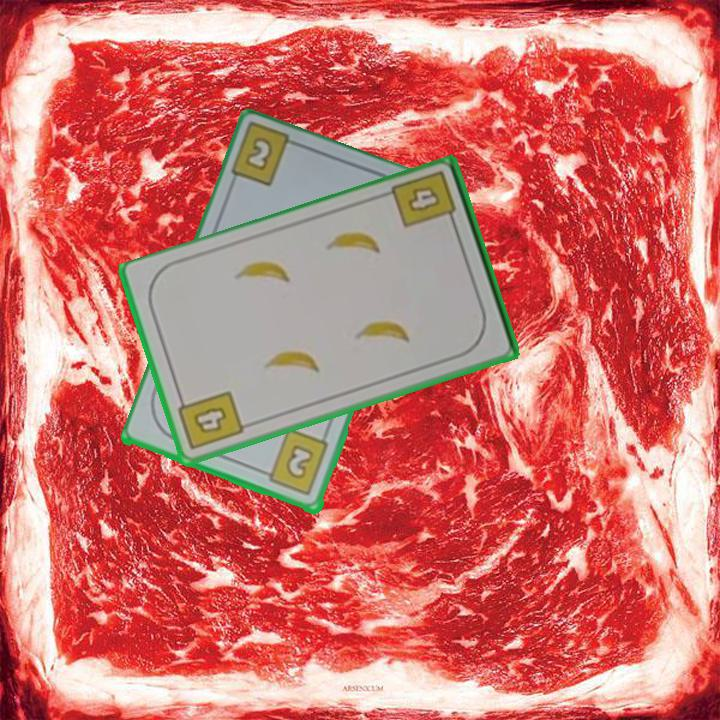2b: (257, 426, 332, 499), (241, 133, 276, 175)
4b: (174, 387, 247, 453), (388, 167, 459, 232)
